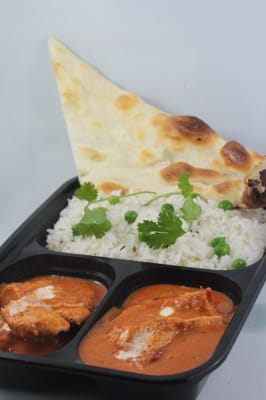curry: (210, 236, 231, 258)
